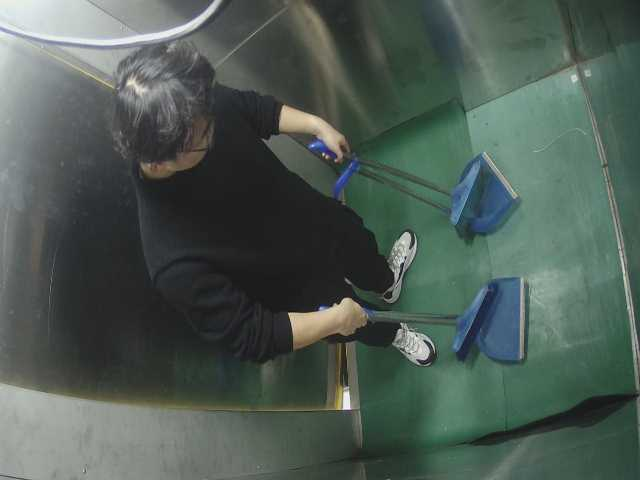broom: (289, 117, 550, 248), (289, 257, 536, 384)
person: (88, 28, 444, 362)
